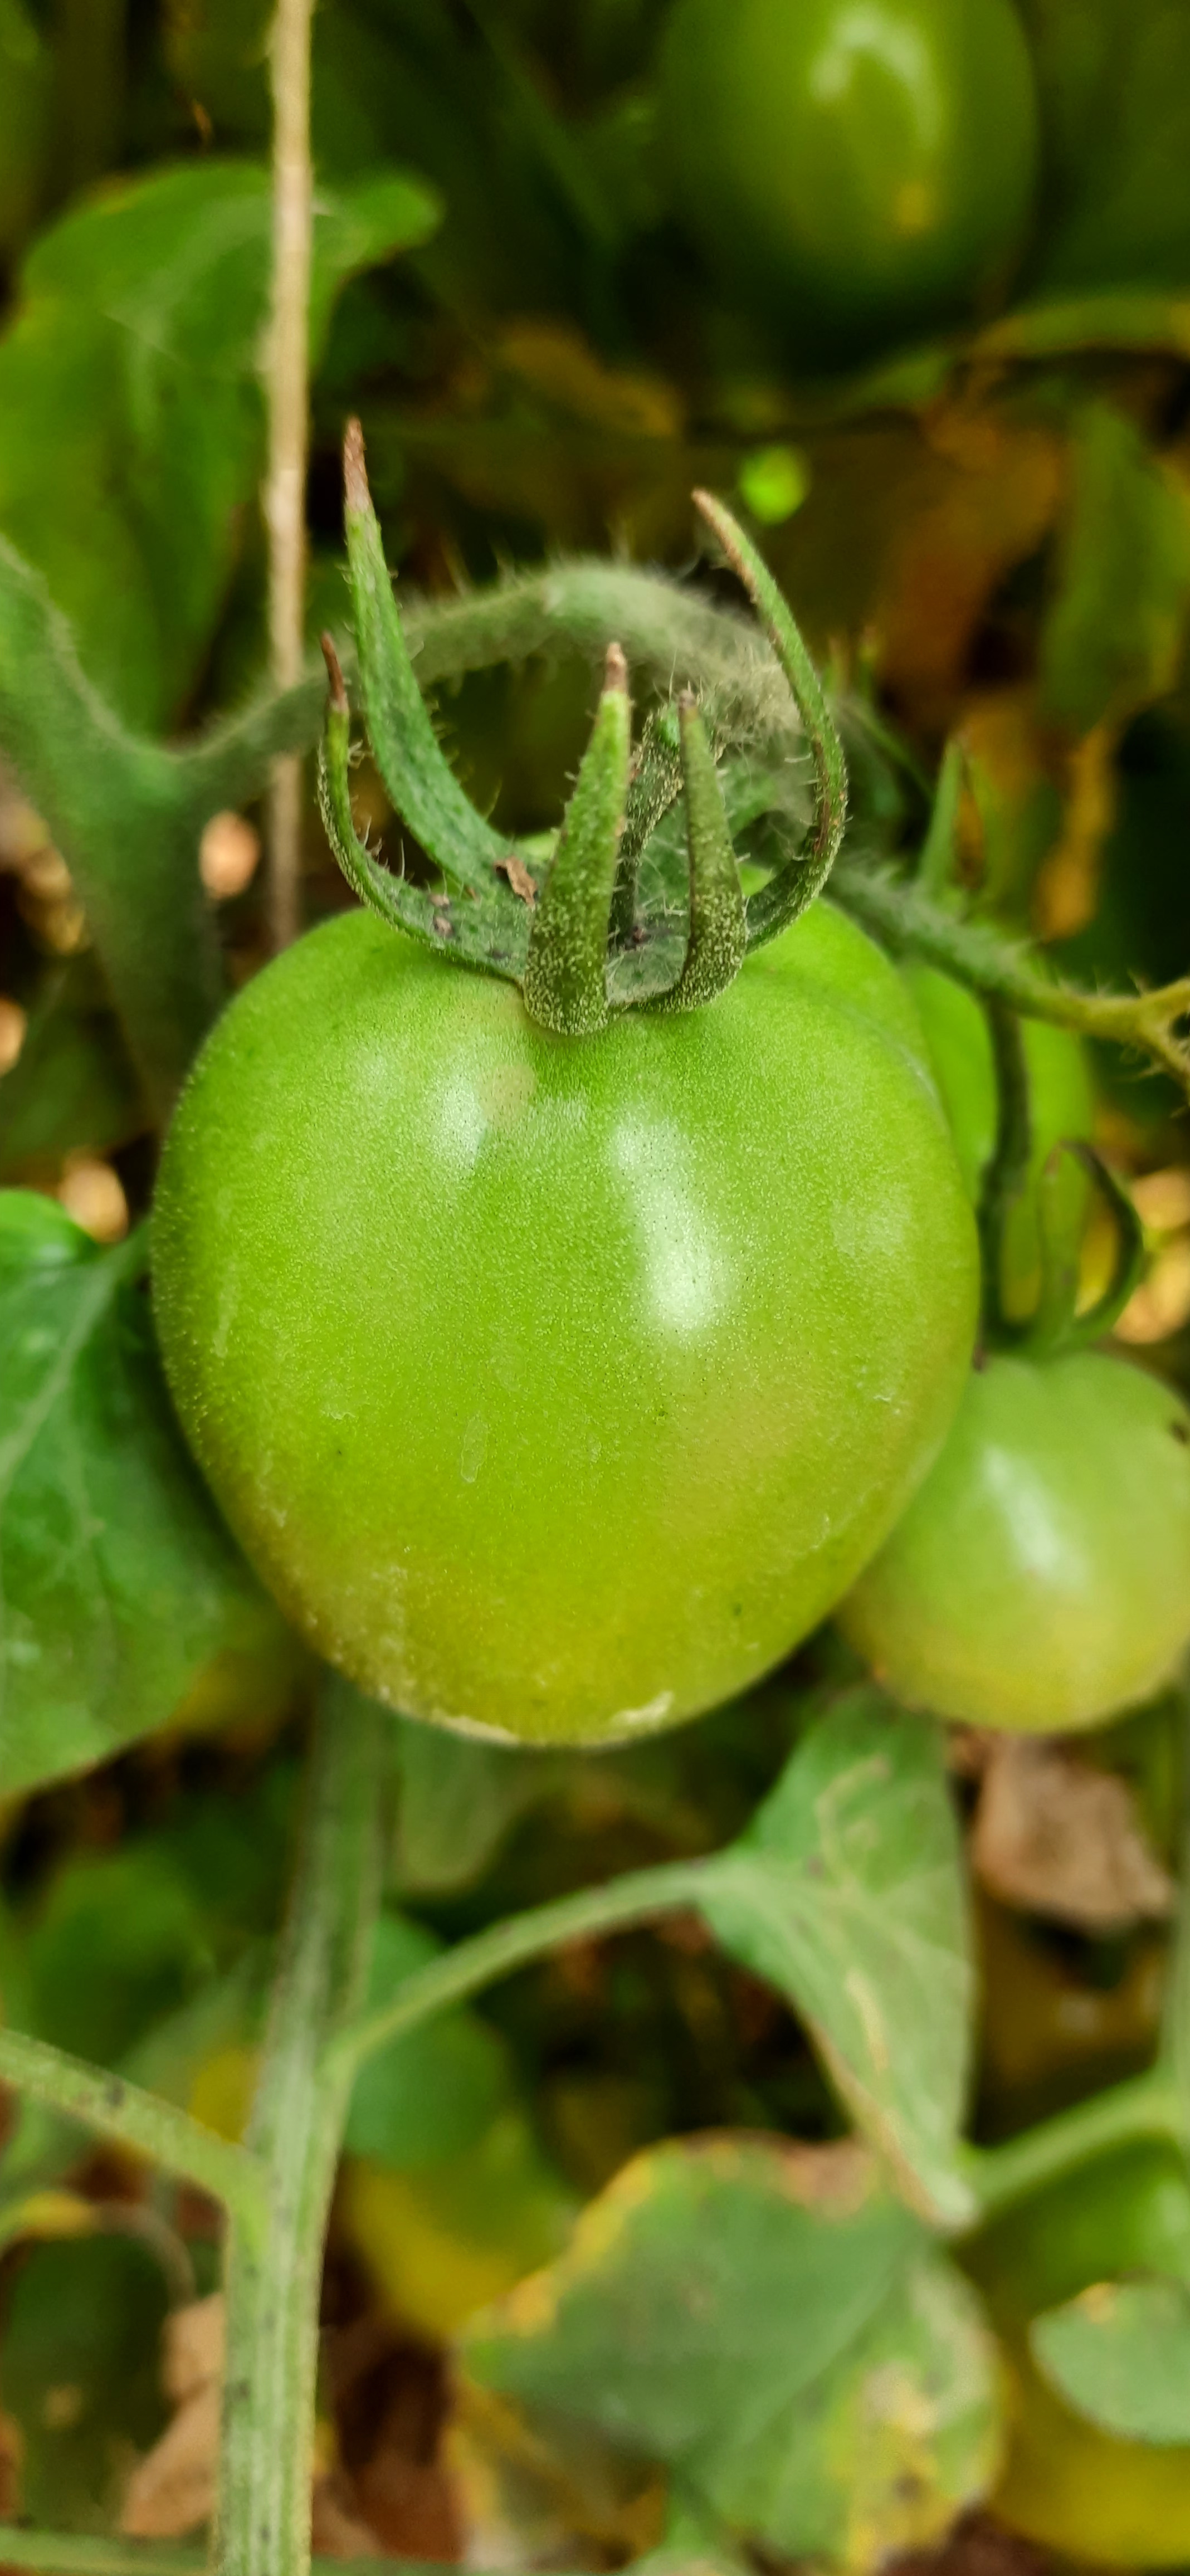raw_tomato: (151, 790, 1095, 1937)
